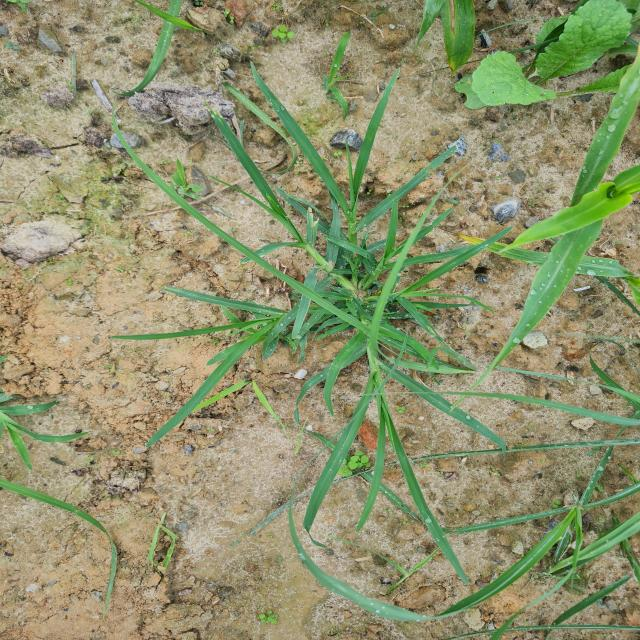maize: (508, 104, 640, 306)
weed: (150, 100, 480, 611)
